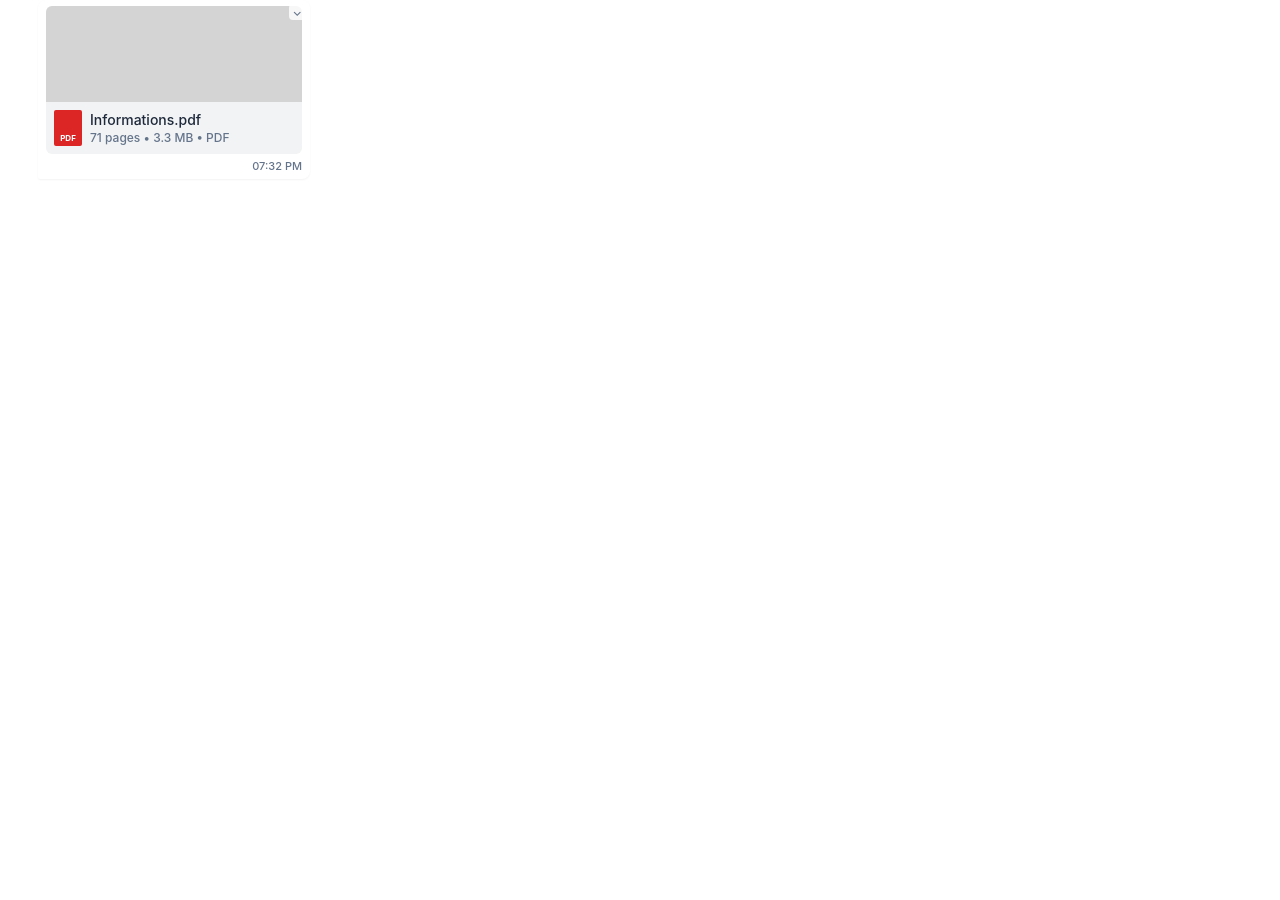
Scenario: A PDF in the chat › shows the top of page 1 and "71 pages • 3.3 MB • PDF", and opens inside the app
Expected: the text "71 pages • 3.3 MB • PDF" is shown, x1=90 y1=130 x2=230 y2=145
Click the button "PDF Informations.pdf 71 pages • 3.3 MB • PDF" at (174, 80), box x1=46 y1=6 x2=302 y2=154
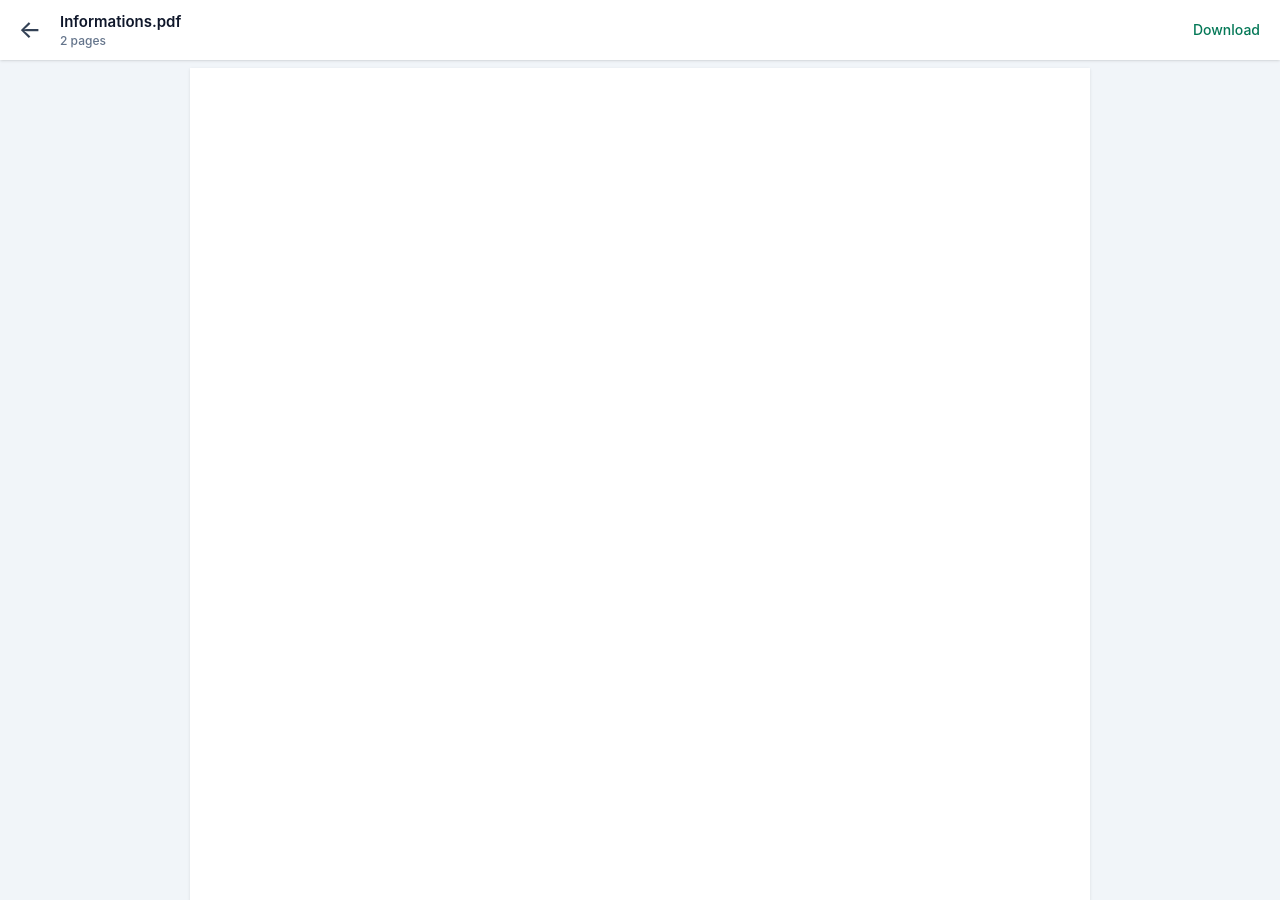
Expected: the text "2 pages" is shown, x1=60 y1=33 x2=106 y2=48
Click the button named "Back to the chat" at (30, 30), box x1=8 y1=8 x2=52 y2=52
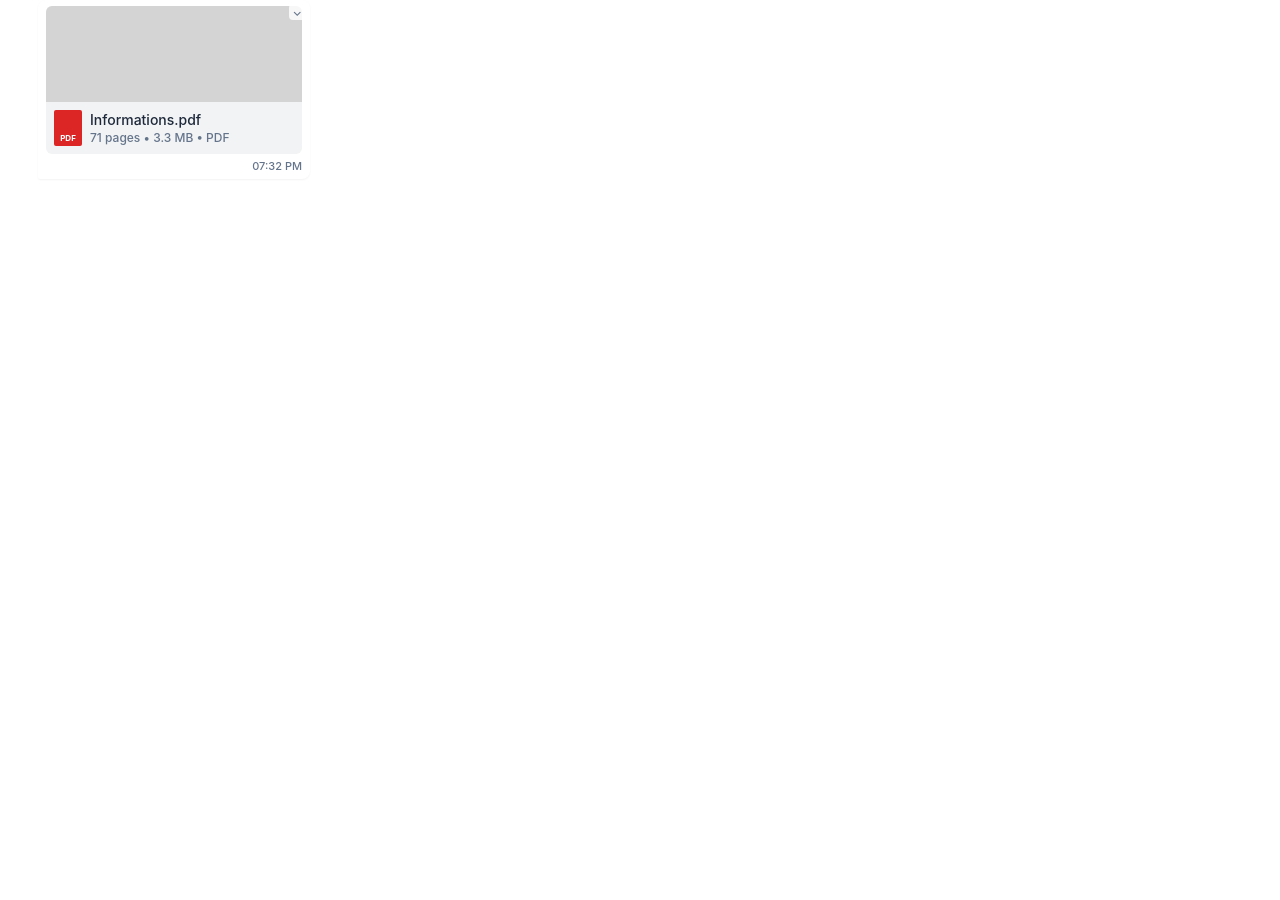
Expected: the dialog is gone
